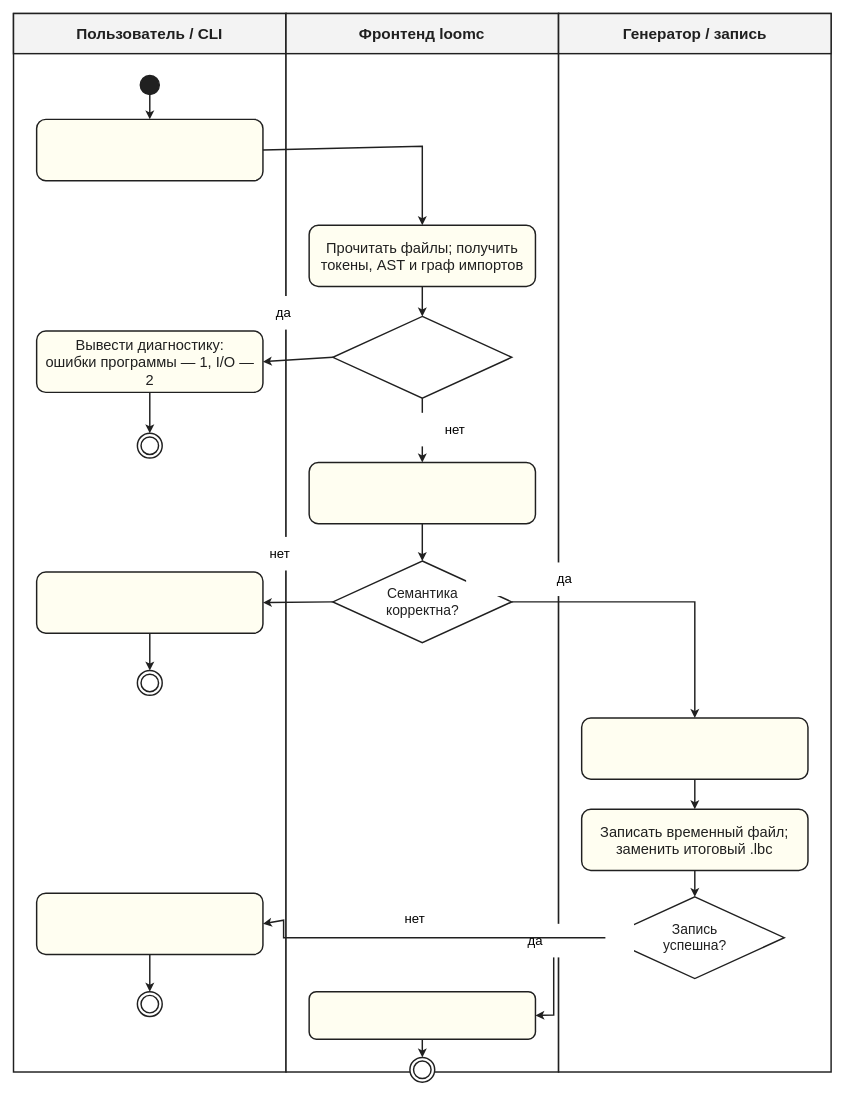
This 844x1095 diagram has some shape labels left out. The box of each missing label's shape, as (x1, y1, x2, y2) in pixels:
Вывести ошибки; сохранить прежний .lbc; код 1: (36, 571, 263, 634)
Диагностика I/O; код 2; прежний .lbc не изменён: (36, 892, 263, 955)
Есть ошибки чтения или разбора?: (332, 315, 512, 399)
Запустить loomc build с путями входа и выхода: (36, 118, 263, 181)
Разрешить имена и типы; проверить main: (308, 461, 536, 524)
Сводка сборки; код 0: (308, 991, 536, 1040)
Сформировать байткод, таблицы и отладочные данные: (581, 717, 808, 780)
